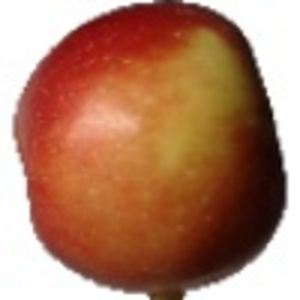maçã braeburn: (12, 2, 289, 289)
